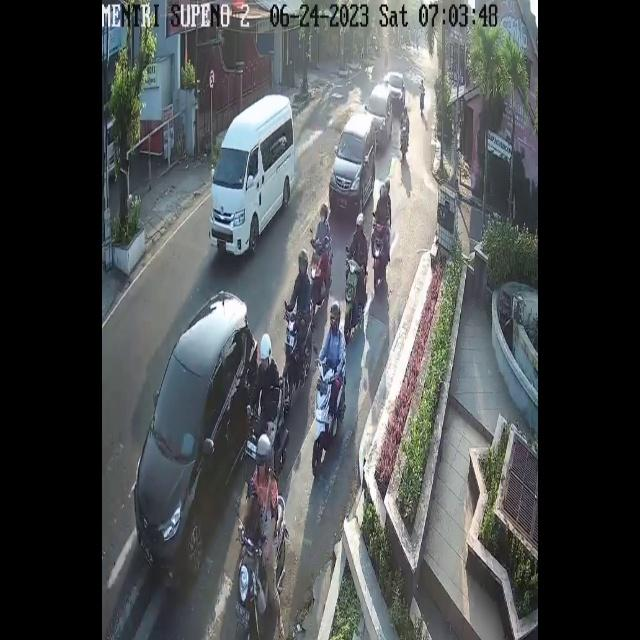bus: (234, 494, 288, 640), (245, 376, 291, 484), (311, 358, 346, 470), (282, 299, 315, 391), (343, 257, 365, 336), (309, 236, 333, 305), (368, 219, 391, 291), (400, 124, 408, 157), (418, 87, 426, 115)
car: (211, 94, 296, 258)
motorcycle: (134, 290, 257, 583), (328, 110, 376, 210), (366, 84, 392, 145), (385, 71, 405, 112)
